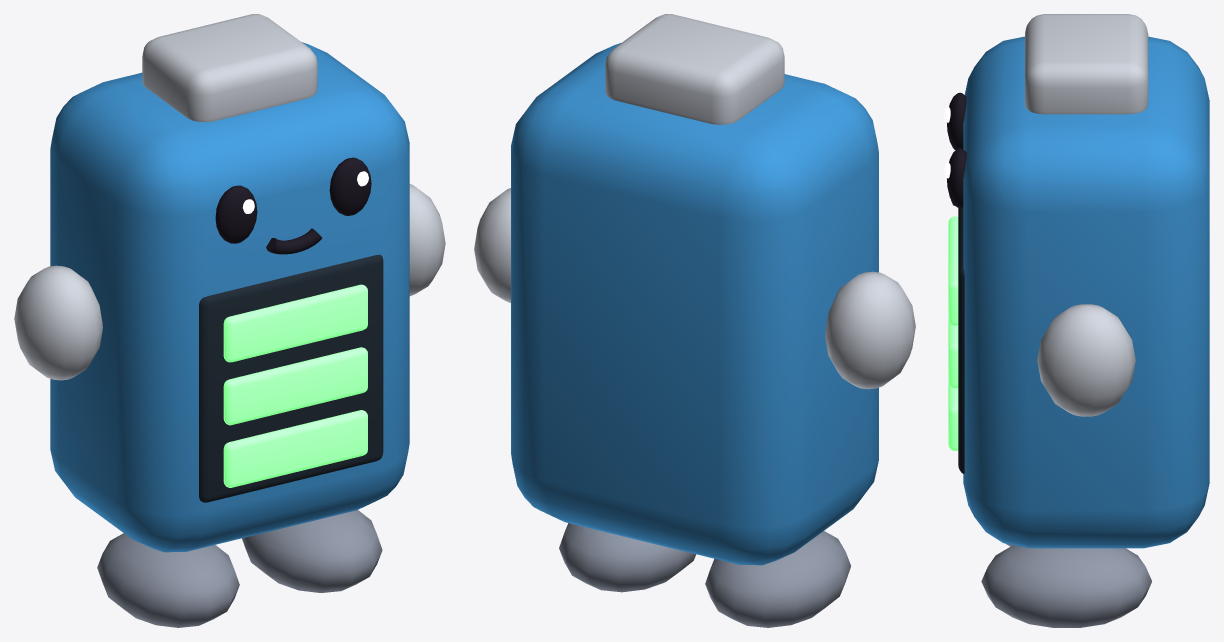
The model's file is bolt.glb.
3 views of the same model, side by side, from view 1: azimuth 30°, elevation 25°; view 2: azimuth 150°, elevation 25°; view 3: azimuth 270°, elevation 25° (orthographic). The views are drawn at different scales.
Visible parts, largest first — view 1: bolt_Case, bolt_Window, bolt_Cap, bolt_FootShoe_L, bolt_FootShoe_R, bolt_ArmNub_L, bolt_Bar_2, bolt_Bar_1, bolt_Bar_3, bolt_ArmNub_R, bolt_Iris_L, bolt_Iris_R (+1 smaller); view 2: bolt_Case, bolt_Cap, bolt_FootShoe_L, bolt_ArmNub_L, bolt_FootShoe_R, bolt_ArmNub_R; view 3: bolt_Case, bolt_Cap, bolt_FootShoe_R, bolt_ArmNub_R, bolt_Window, bolt_Bar_3, bolt_Iris_R, bolt_Iris_L, bolt_Bar_2, bolt_Bar_1.
Part boxes in pixels (x1=…): bolt_Case: x1=50, y1=42, x2=409, y2=552; bolt_Window: x1=199, y1=254, x2=383, y2=502; bolt_Cap: x1=142, y1=14, x2=317, y2=122; bolt_FootShoe_L: x1=97, y1=533, x2=239, y2=627; bolt_FootShoe_R: x1=242, y1=510, x2=382, y2=592; bolt_ArmNub_L: x1=14, y1=265, x2=102, y2=380; bolt_Bar_2: x1=223, y1=347, x2=367, y2=425; bolt_Bar_1: x1=223, y1=410, x2=367, y2=487; bolt_Bar_3: x1=223, y1=284, x2=367, y2=362; bolt_ArmNub_R: x1=409, y1=184, x2=445, y2=295; bolt_Iris_L: x1=215, y1=185, x2=257, y2=243; bolt_Iris_R: x1=329, y1=157, x2=371, y2=215; bolt_Case: x1=511, y1=43, x2=878, y2=565; bolt_Cap: x1=605, y1=14, x2=784, y2=124; bolt_FootShoe_L: x1=705, y1=531, x2=850, y2=627; bolt_ArmNub_L: x1=825, y1=271, x2=915, y2=389; bolt_FootShoe_R: x1=559, y1=523, x2=695, y2=592; bolt_ArmNub_R: x1=474, y1=188, x2=510, y2=302; bolt_Case: x1=963, y1=36, x2=1209, y2=548; bolt_Cap: x1=1025, y1=14, x2=1148, y2=114; bolt_FootShoe_R: x1=981, y1=545, x2=1151, y2=627; bolt_ArmNub_R: x1=1037, y1=304, x2=1135, y2=416; bolt_Window: x1=958, y1=207, x2=964, y2=473; bolt_Bar_3: x1=948, y1=216, x2=958, y2=325; bolt_Iris_R: x1=947, y1=148, x2=966, y2=207; bolt_Iris_L: x1=947, y1=92, x2=966, y2=150; bolt_Bar_2: x1=948, y1=320, x2=958, y2=388; bolt_Bar_1: x1=948, y1=382, x2=958, y2=450.
Bounding box in the file's own units: 0.2907 × 0.367 × 0.1616.
